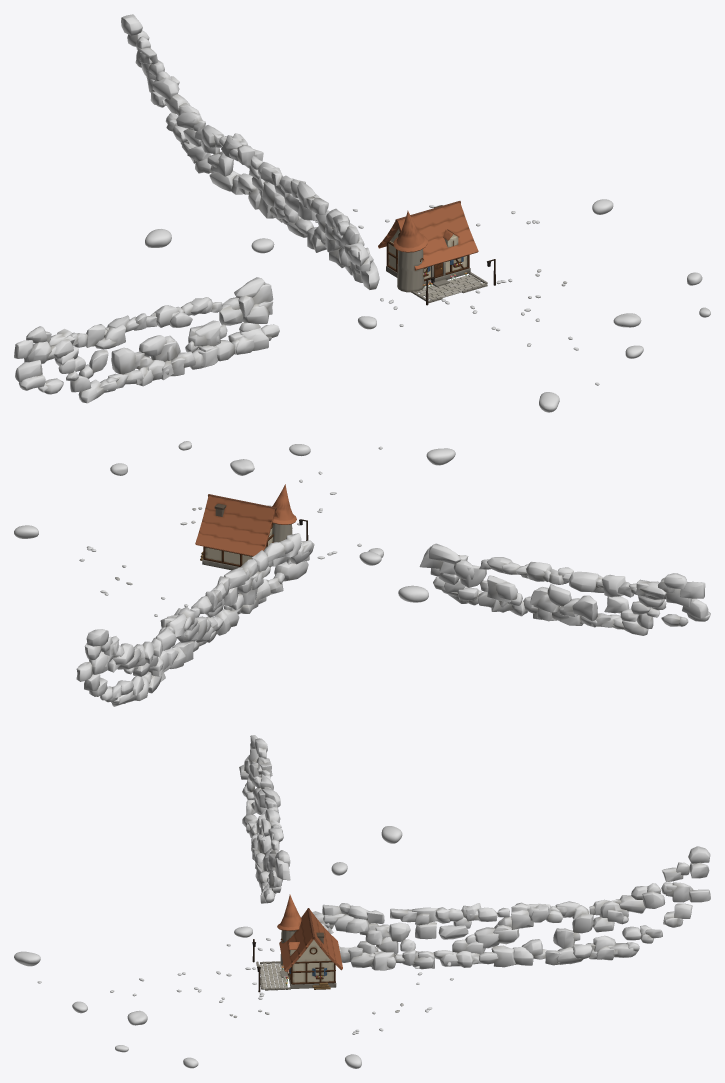
The model's file is ro-cottage-refined.glb.
3 views of the same model, one above another, from view 1: azimuth 30°, elevation 25°; view 2: azimuth 150°, elevation 25°; view 3: azimuth 270°, elevation 25° (orthographic). The views are drawn at different scales.
Parts seen in each view (by area): view 1: house_4, house_0, house_2; view 2: house_4, rock_32, house_0, house_1, rock_31, rock_77, rock_73, rock_201; view 3: house_4, house_1.
Part boxes in pixels (<box>): house_4: <box>378,202,478,270</box>; house_0: <box>386,249,470,292</box>; house_2: <box>386,201,469,281</box>; house_4: <box>195,484,296,556</box>; rock_32: <box>569,571,598,592</box>; house_0: <box>202,523,292,570</box>; house_1: <box>205,528,272,564</box>; rock_31: <box>572,595,597,621</box>; rock_77: <box>274,561,308,581</box>; rock_73: <box>428,543,461,564</box>; rock_201: <box>398,585,428,602</box>; house_4: <box>277,894,342,971</box>; house_1: <box>290,950,333,982</box>.
Bounding box in the file's own units: 62.67 × 11.36 × 66.35.
